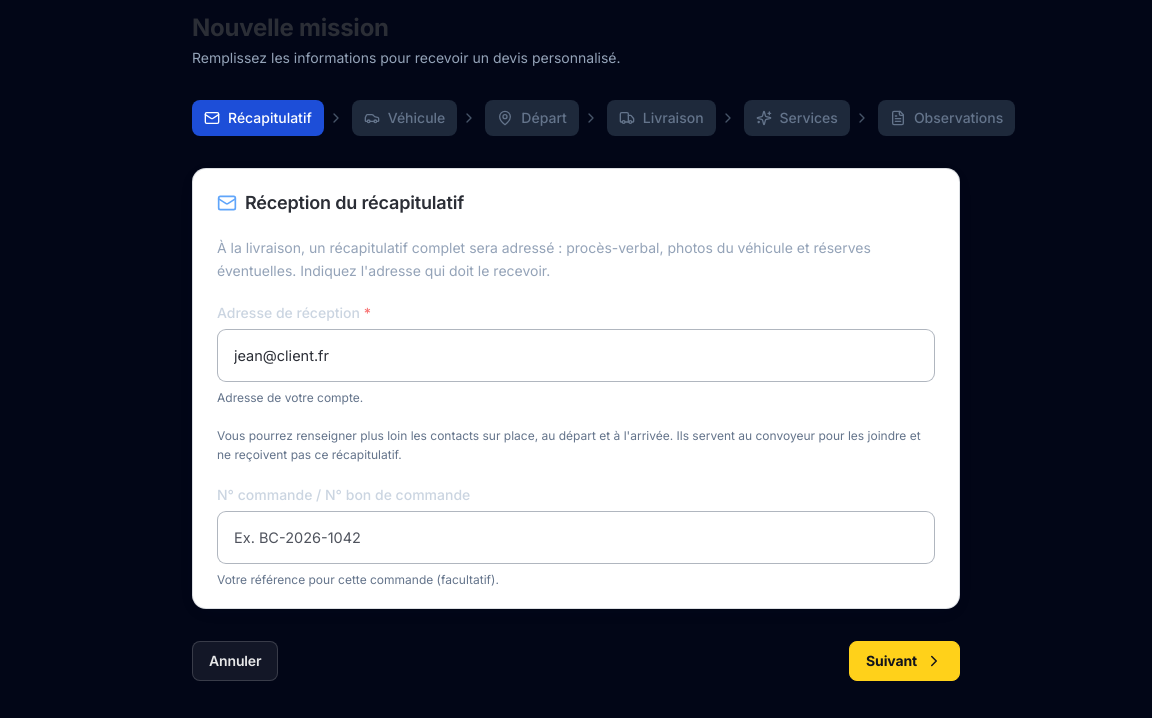
Test: NewMission › affiche le champ plaque d'immatriculation
Click the button "Suivant" at [905, 661], box [849,641,960,681]
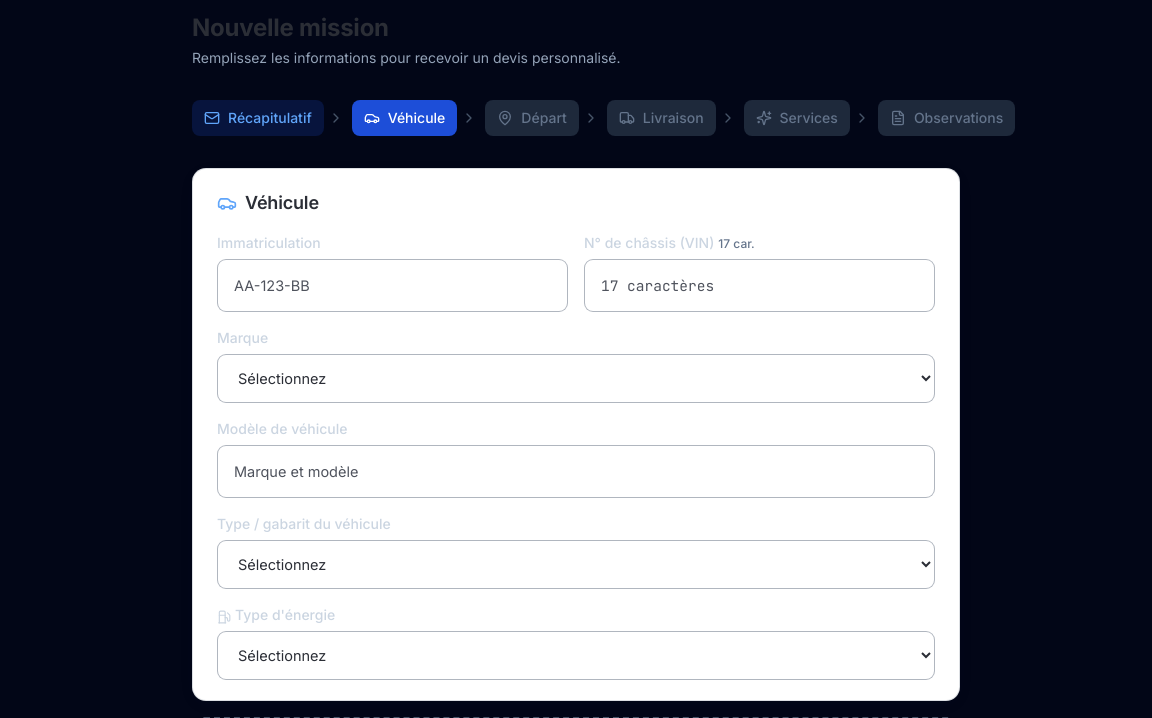
Check: the field with placeholder "AA-123-BB" is shown, box [217,259,568,312]
